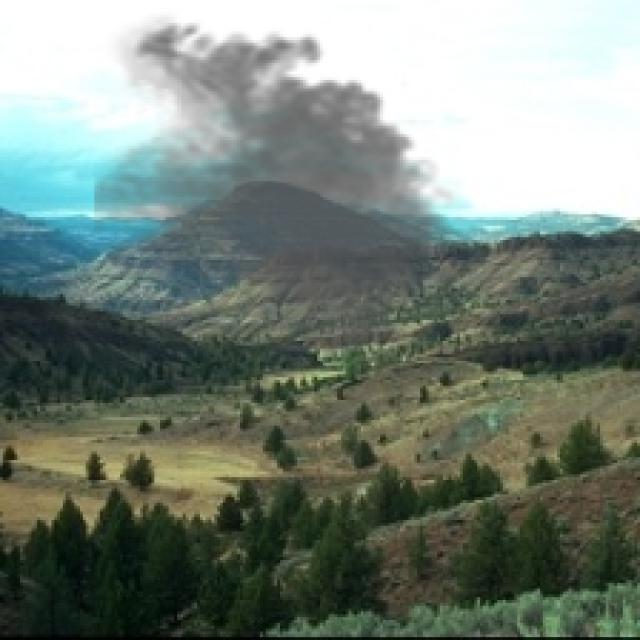smoke: (94, 12, 469, 354)
